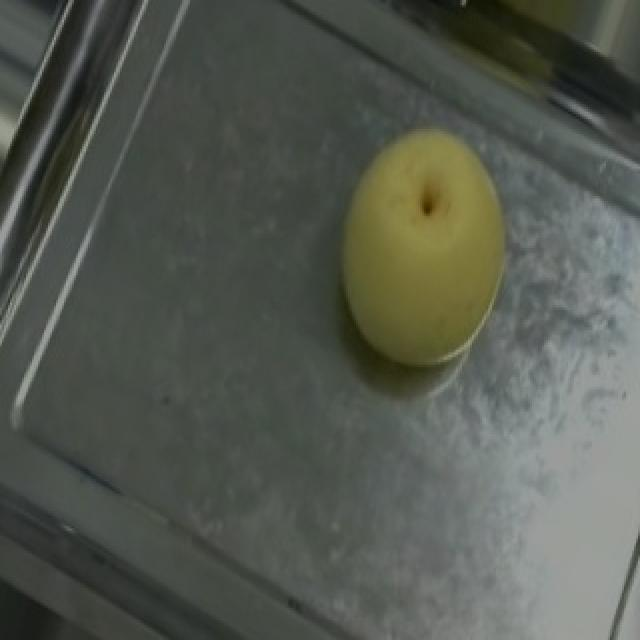Fruit: (292, 89, 552, 402)
